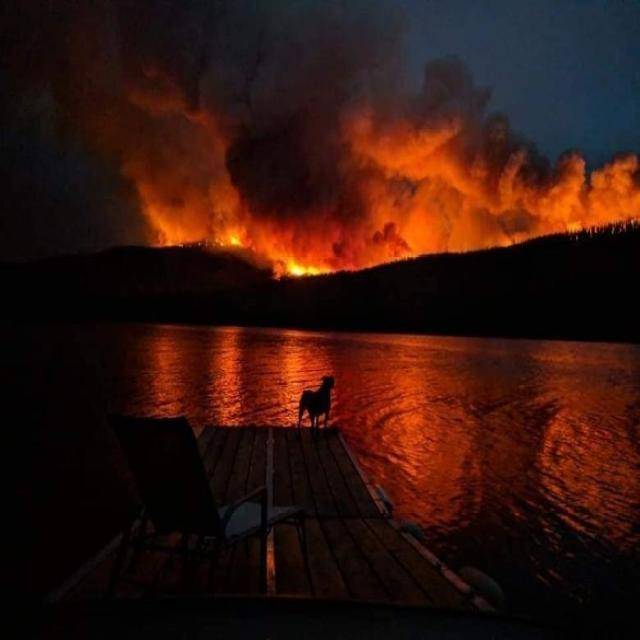Fire: (287, 261, 332, 277), (228, 235, 241, 247)
Smoke: (61, 1, 640, 275)
